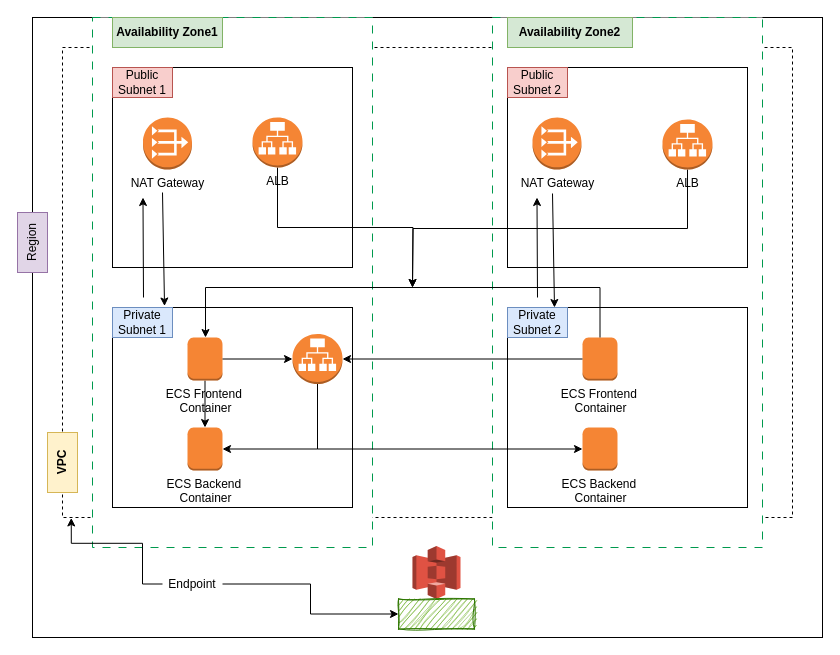
The diagram is 840 pixels wide and 655 high, and some of its shapes have lost their labels. Here are the shapes that lost their labels. From the top down, the box of each, then its label:
(292, 333, 342, 384): NLB
(398, 598, 474, 629): S3 Bucket
